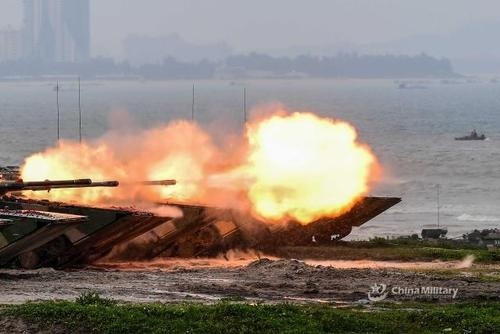fire: (228, 107, 380, 221)
